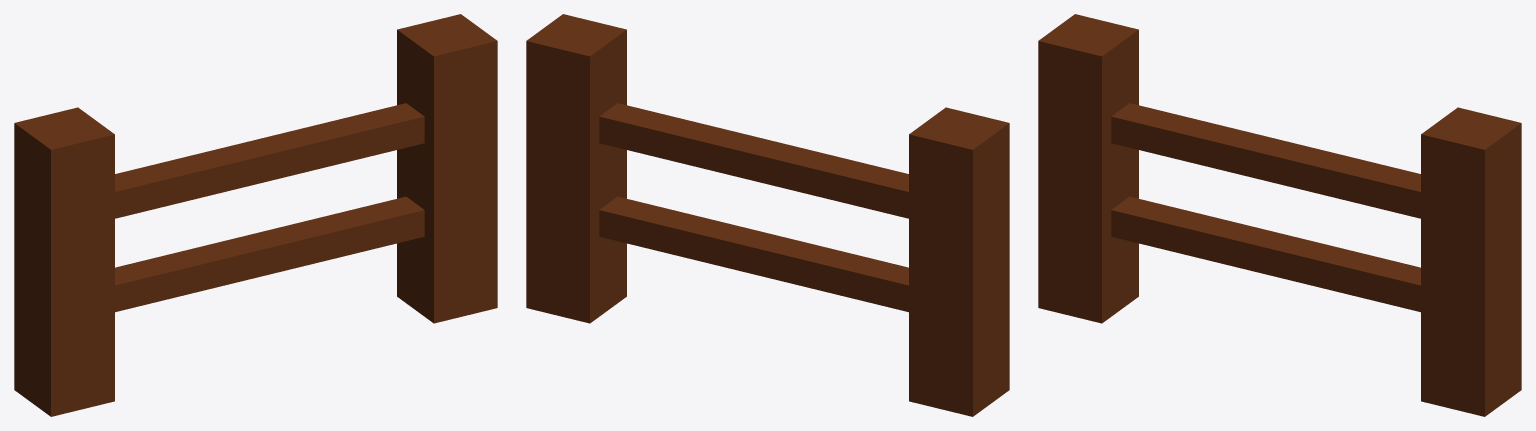
The model's file is Small Fence.fbx.
3 renders of one model, left to right at view 1: azimuth 30°, elevation 25°; view 2: azimuth 150°, elevation 25°; view 3: azimuth 330°, elevation 25°, orthographic.
Visible parts, largest first — view 1: Small Fence; view 2: Small Fence; view 3: Small Fence.
Boxes of the visible parts, x1=… form: Small Fence: x1=14, y1=14, x2=497, y2=416; Small Fence: x1=526, y1=14, x2=1009, y2=416; Small Fence: x1=1038, y1=14, x2=1521, y2=416.
Size of the model in its own units: 35 by 20 by 5.
